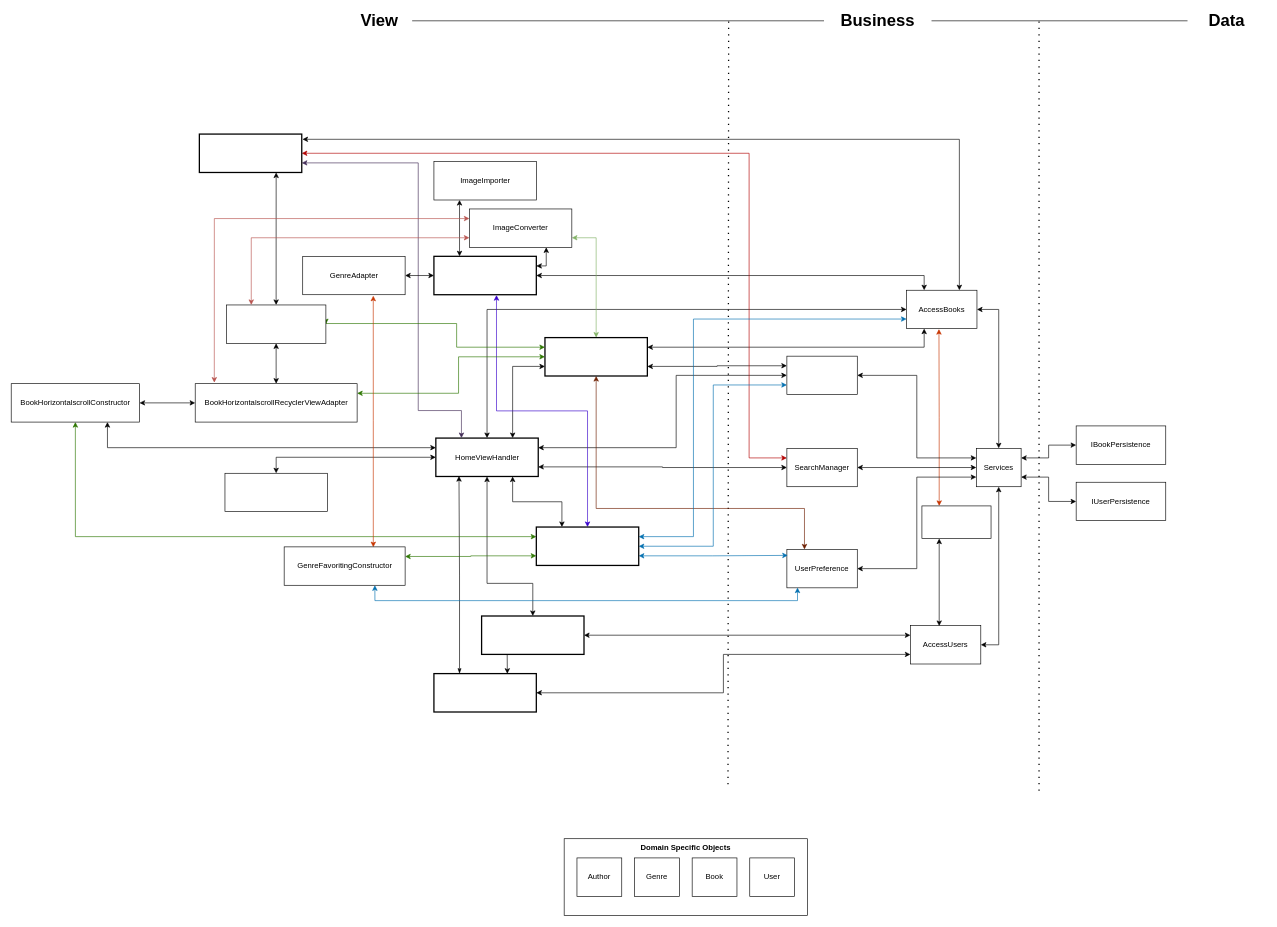
This 1277x927 diagram has some shape labels left out. Here are the shapes that lost their labels. From the top down, the centre of each, then its label:
pixel 250 153: SearchViewHandler
pixel 485 275: AddBookViewHandler
pixel 276 323: BookRecyclerViewAdapter
pixel 596 356: BookViewViewHandler
pixel 821 375: UserManager
pixel 275 492: Messages
pixel 956 522: StringValidator
pixel 587 546: UserProfileViewHandler
pixel 532 635: UserLoginViewHandler
pixel 485 692: UserSignupViewHandler
